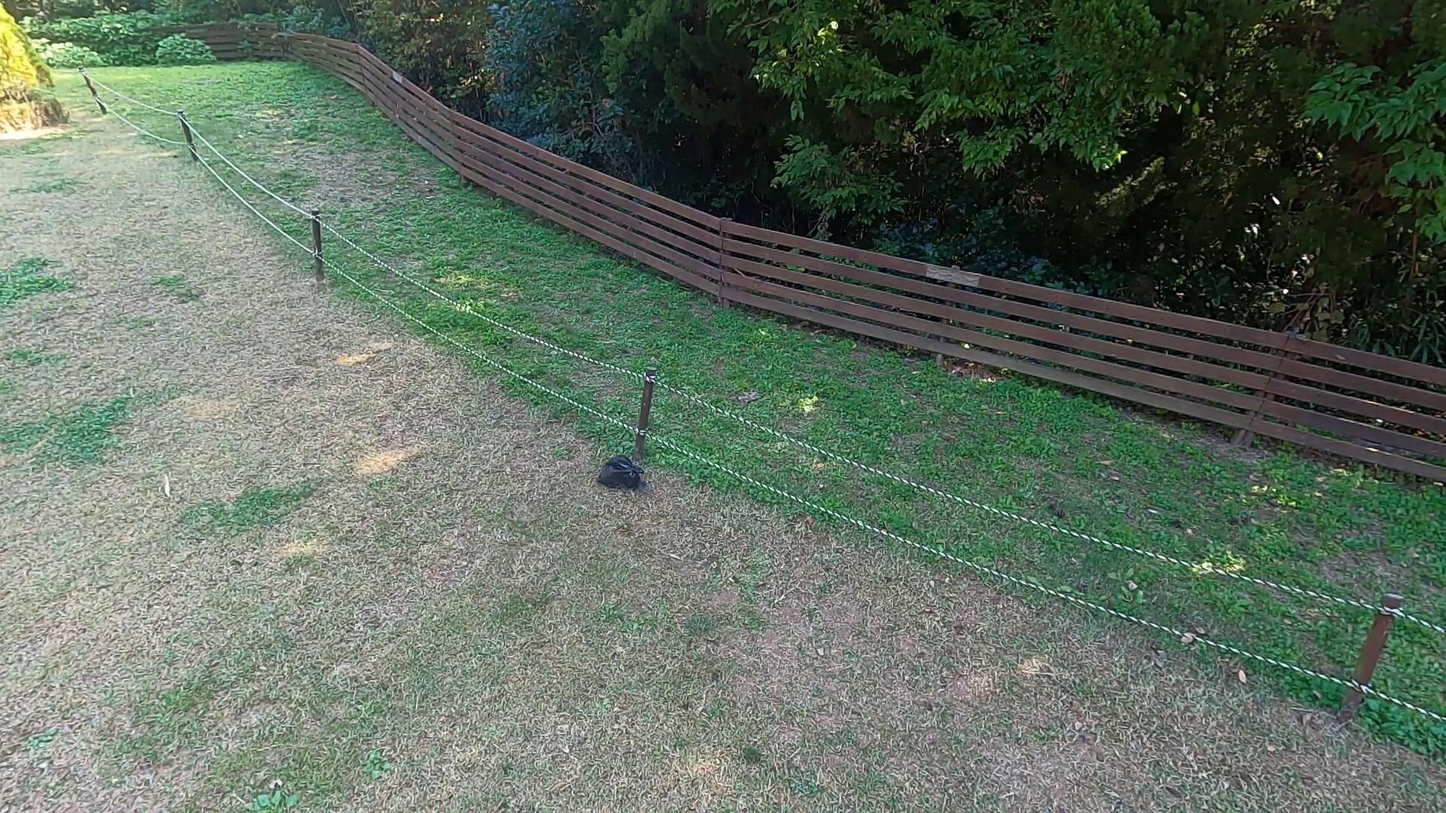trash: (595, 450, 652, 498)
